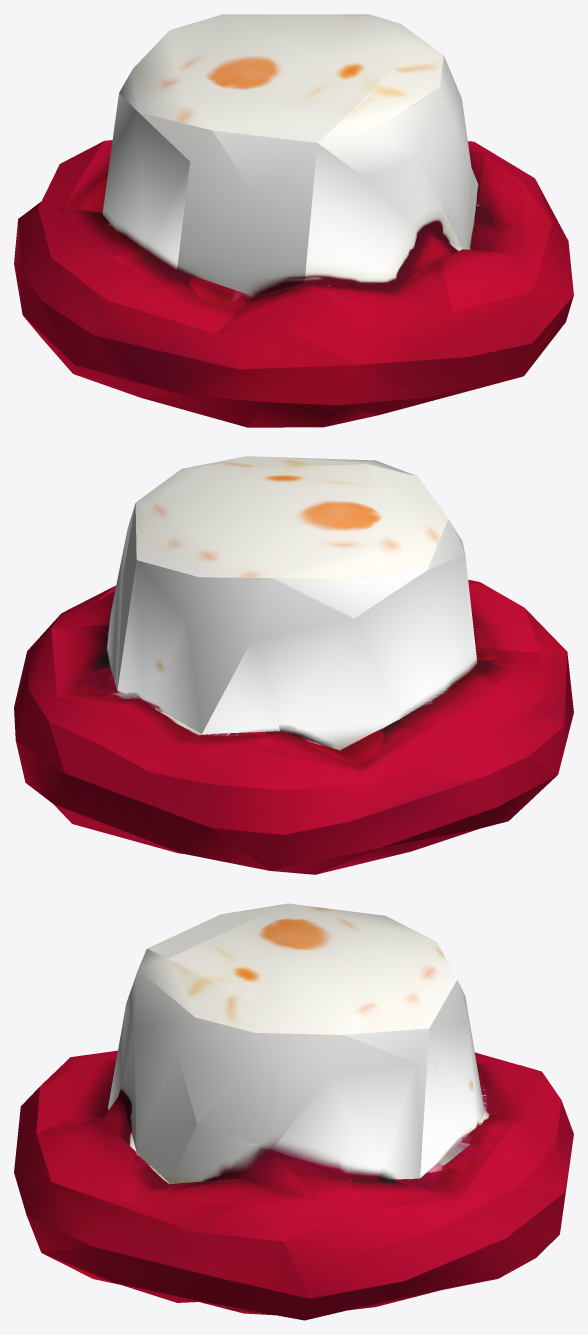
The model's file is tooth1_0.3.fbx.
3 views of the same model, one above another, from view 1: azimuth 30°, elevation 25°; view 2: azimuth 150°, elevation 25°; view 3: azimuth 270°, elevation 25° (orthographic).
Visible parts, largest first — view 1: temp; view 2: temp; view 3: temp.
Part boxes in pixels (x1,y1,x2,y2): temp: (14,14,573,427); temp: (14,456,573,874); temp: (14,903,573,1320).
Size of the model in its own units: 1.91 by 1.13 by 1.91.
Materials: 1 (1 with a texture image).
